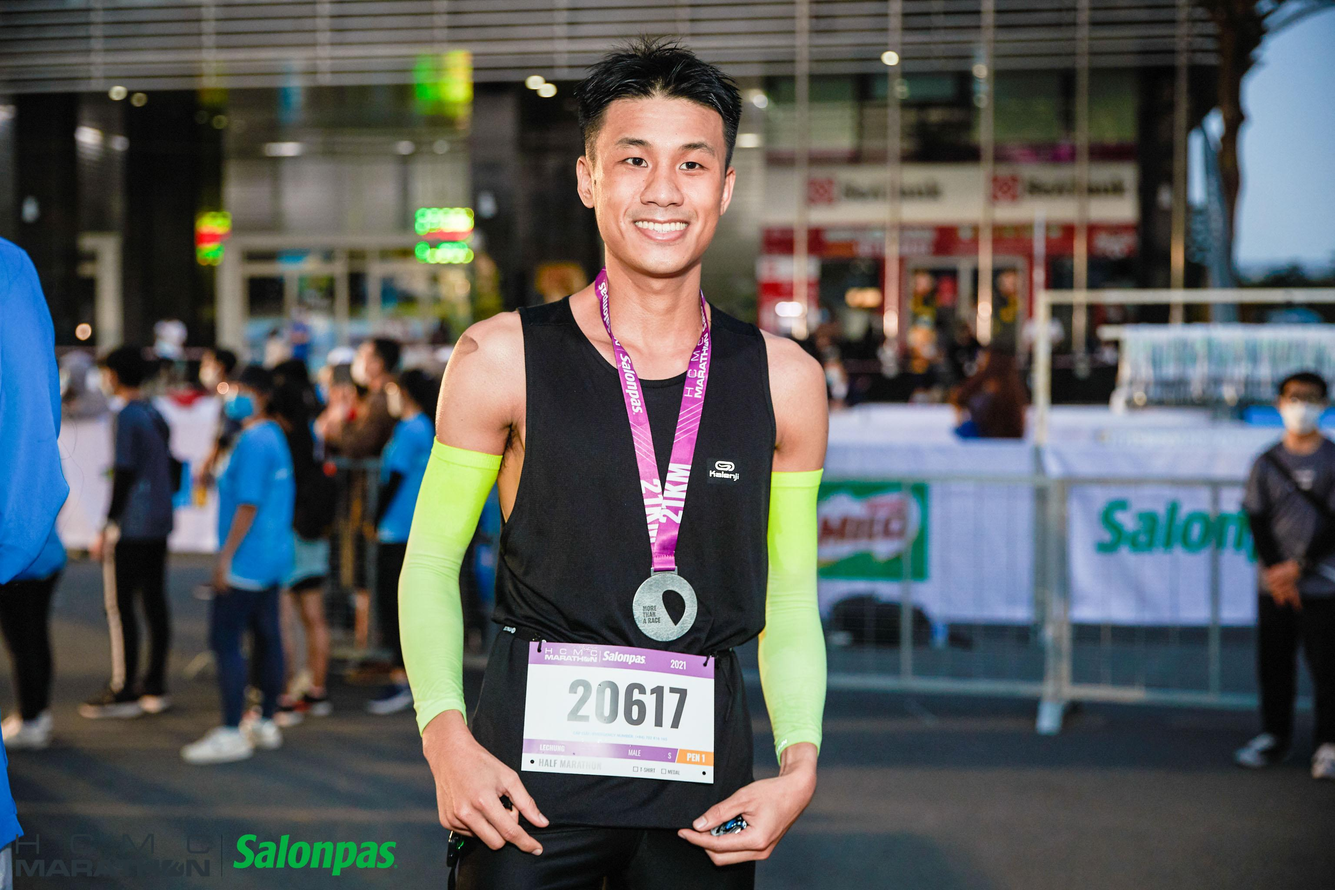bib: (524, 639, 718, 786)
